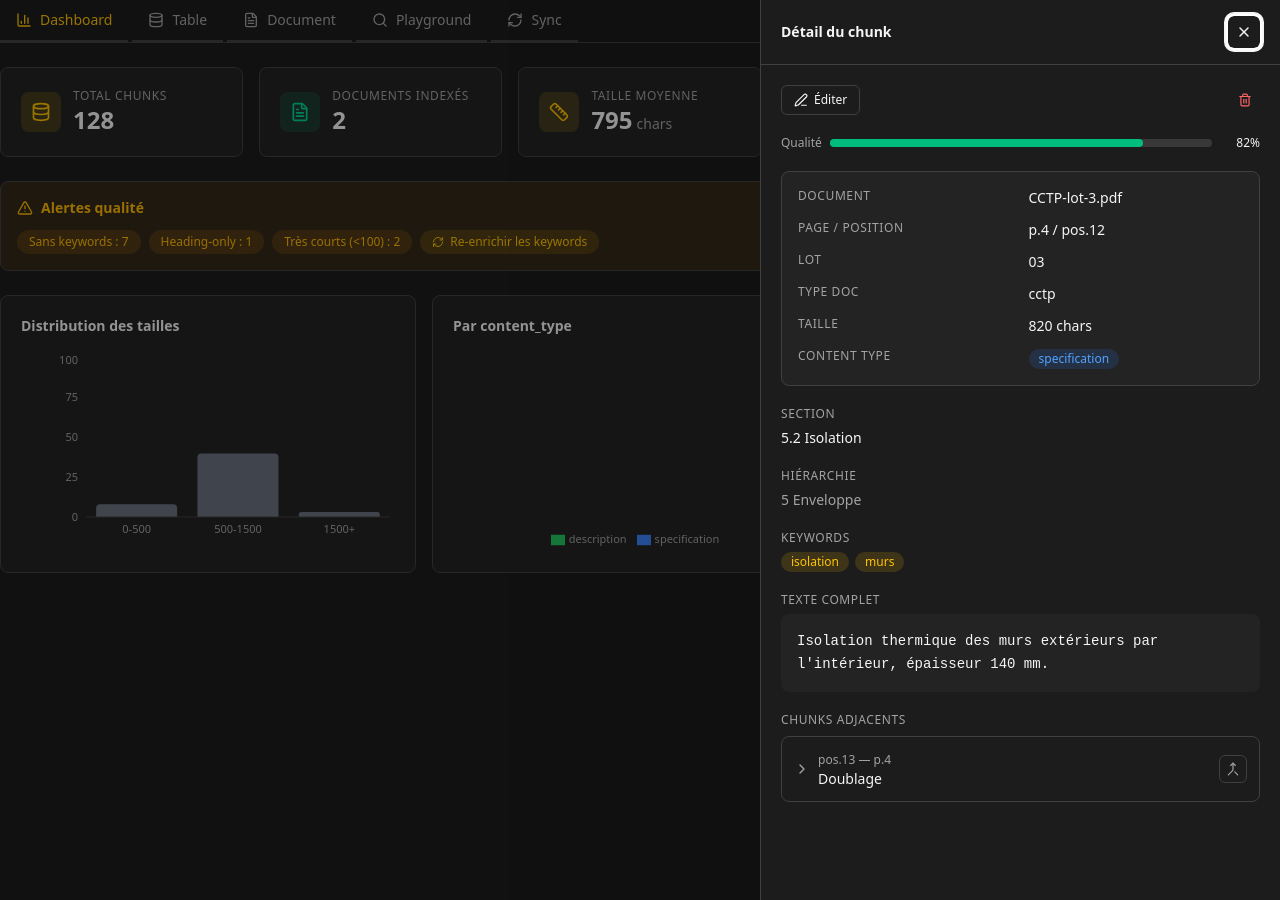
it: AdminDashboard — the side panel belongs to the chunk it shows › reports a split that failed after the panel was closed
Click the button "Éditer" at (821, 100), box [781,85,860,115]
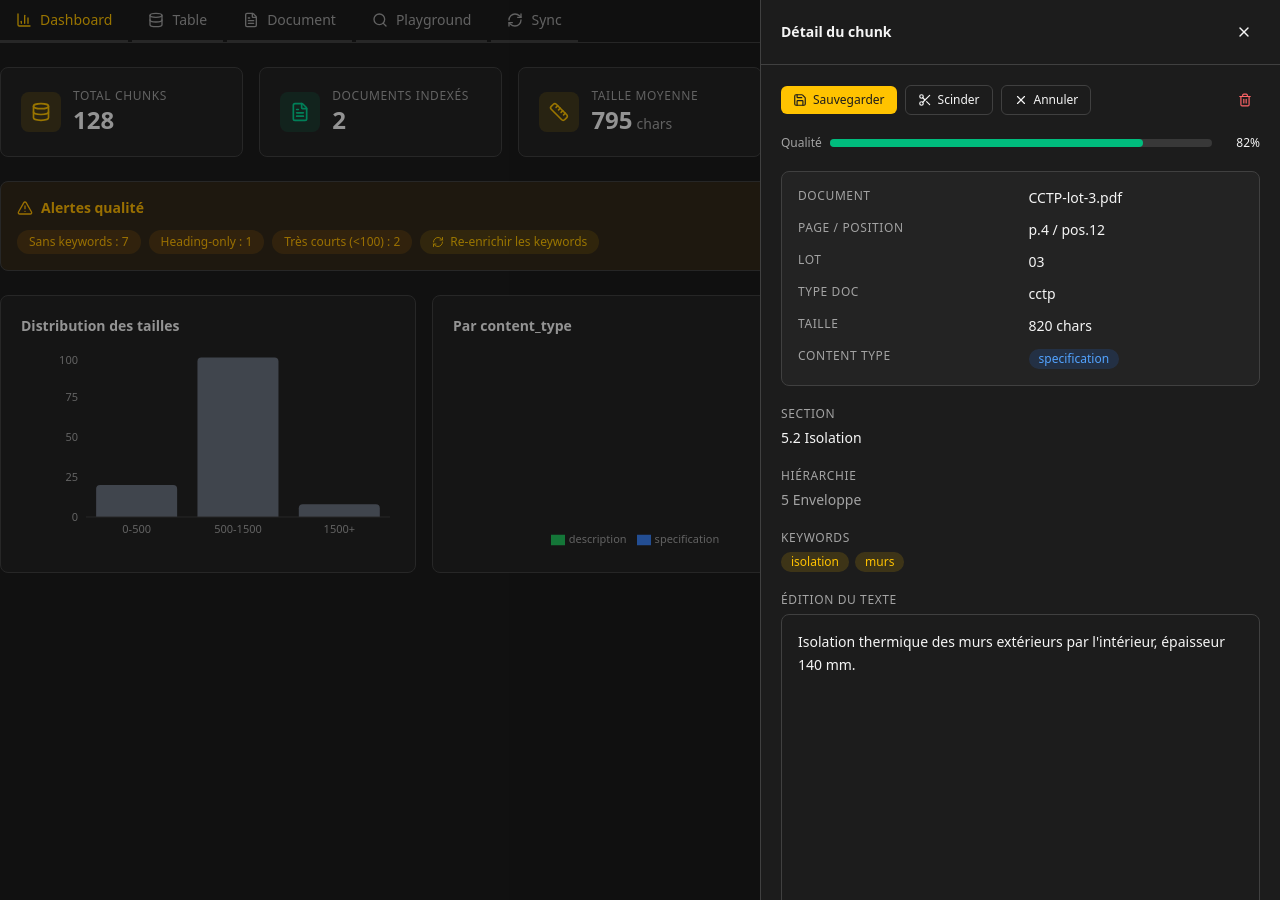
Click the button "Scinder" at (948, 100), box [904,85,992,115]
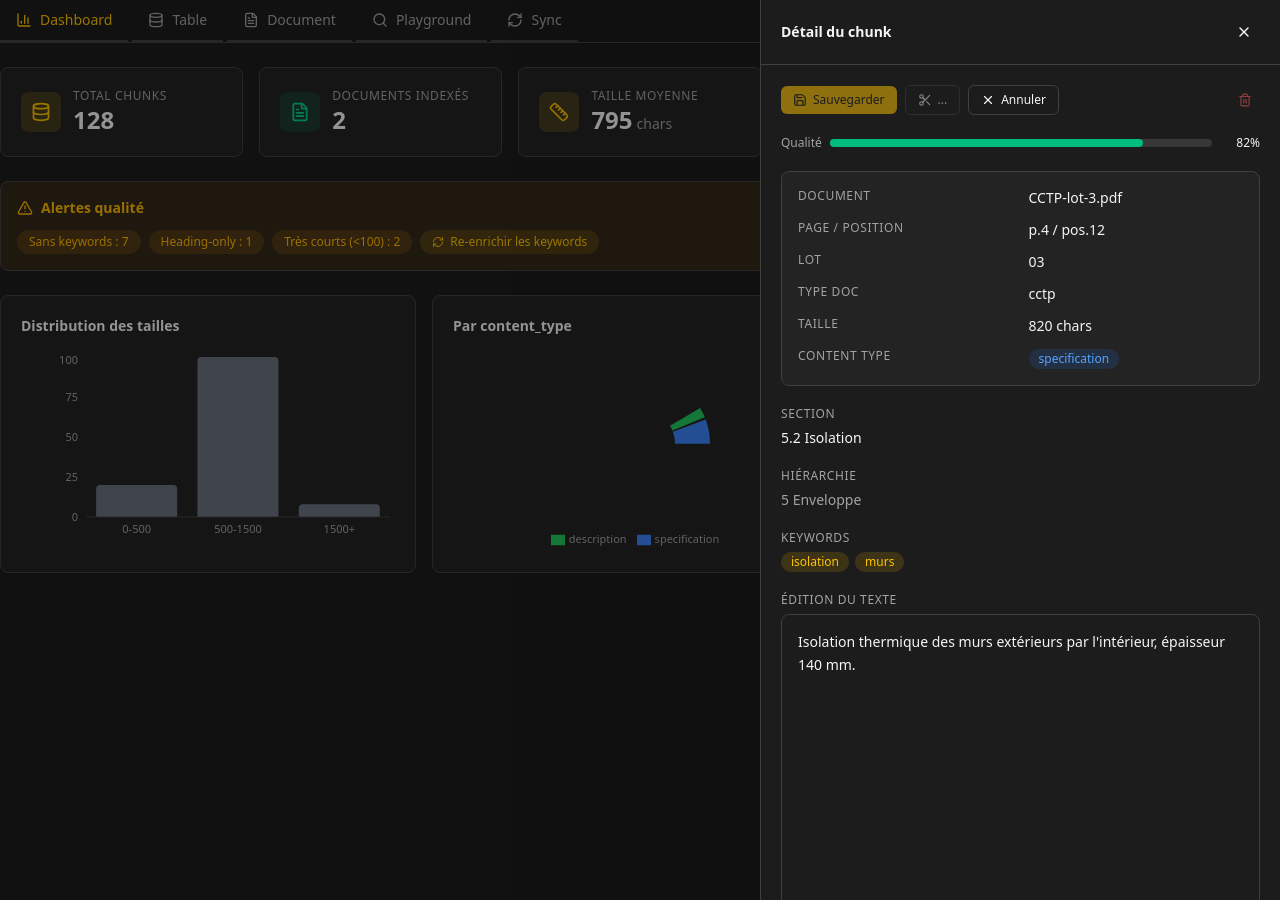
Press Escape
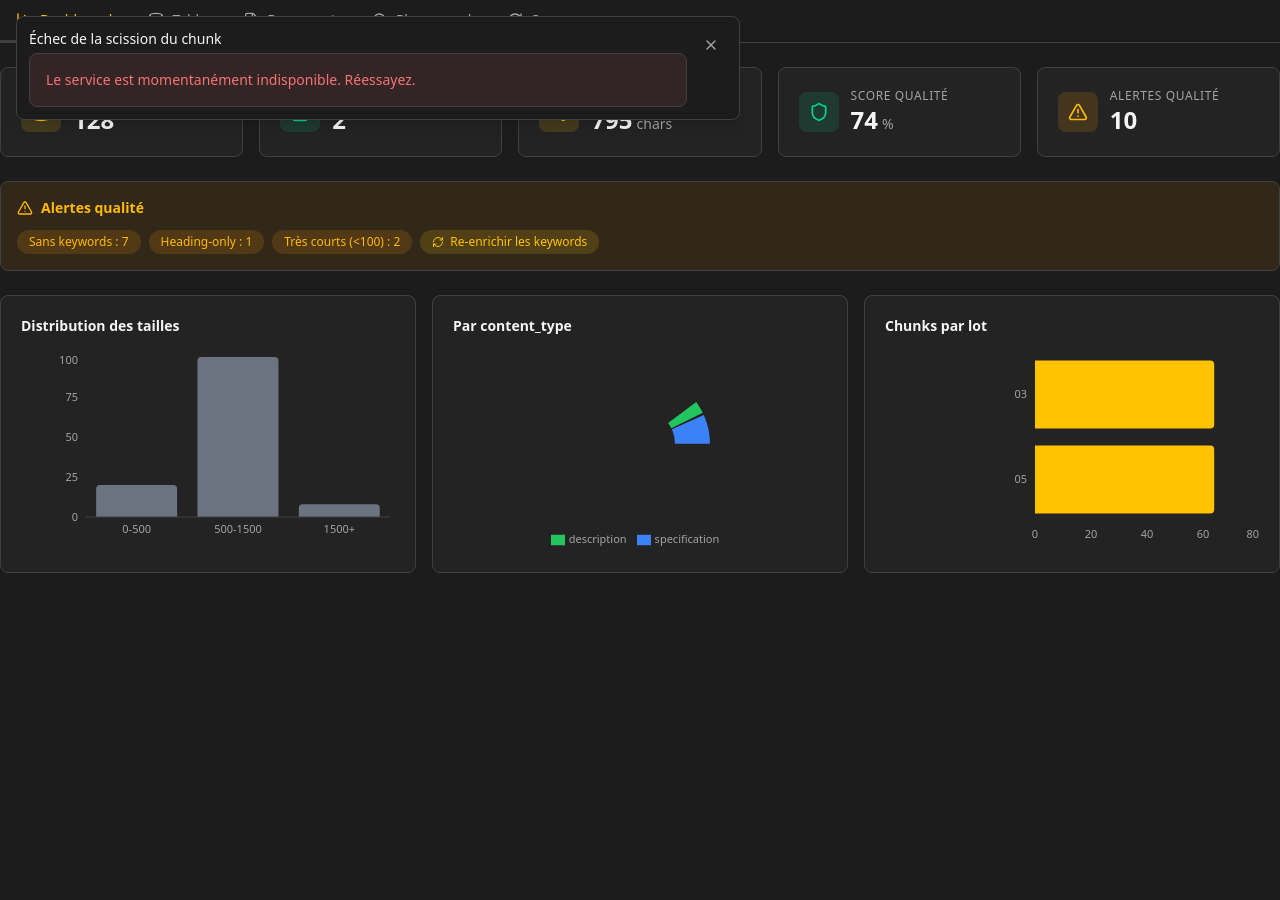
expect the message reads "Le service est momentanément indisponible. Réessayez.": met, box [46,70,416,89]
